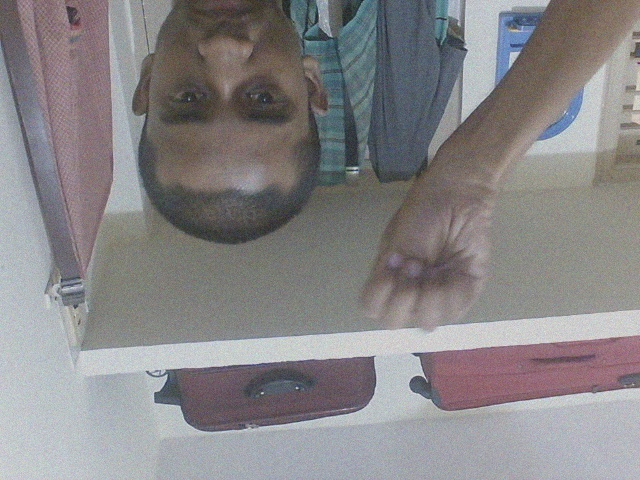hand: (355, 147, 504, 337)
